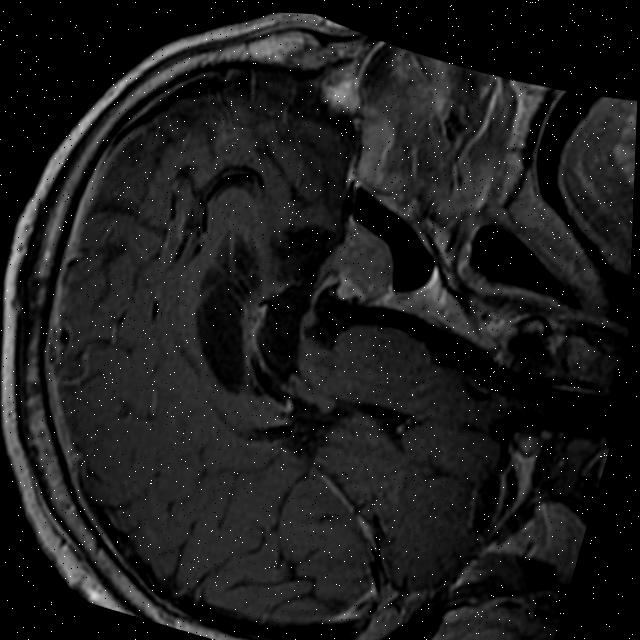Pituitary: (322, 214, 408, 307)
